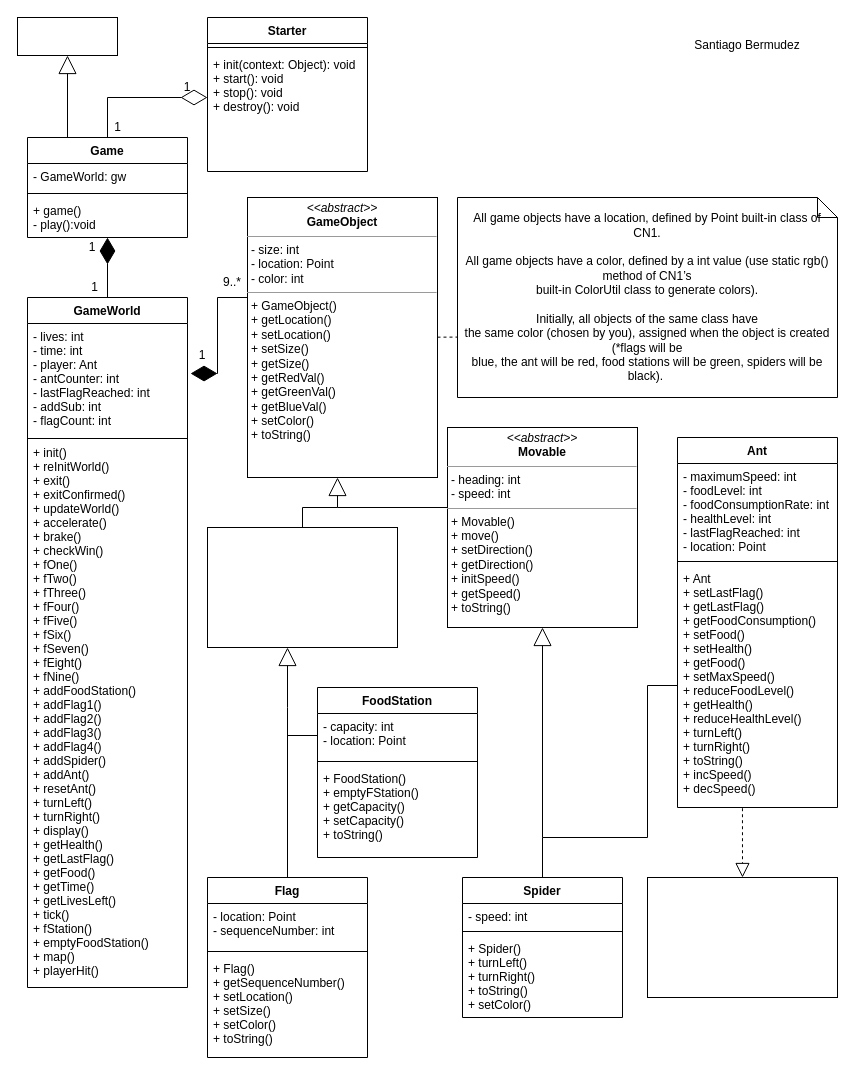
Some shapes in this 855 by 1078 pixel diagram are drawn without their labels. Each missing label, with the centre of its shape:
<<abstract>> Fixed + Fixed() + move() + toString(): the point at 302,587
<<Interface>> ISteerable + turnLeft() + turnRight(): the point at 742,937
Form: the point at 67,36
